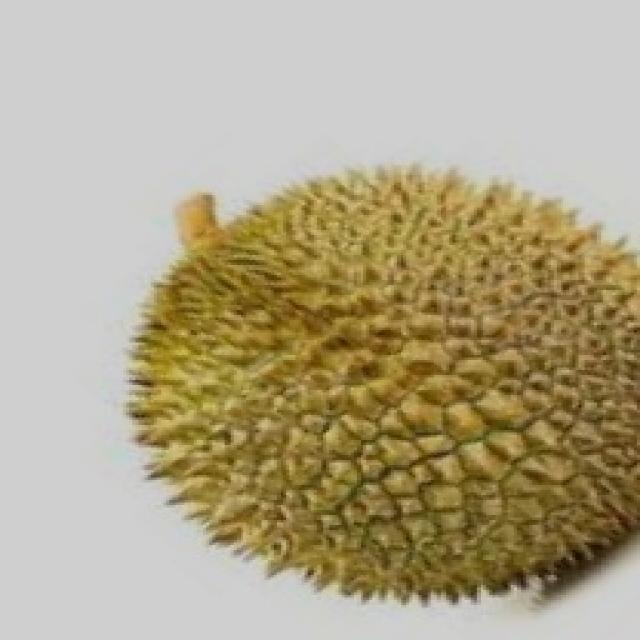fruit: (80, 250, 468, 638), (298, 275, 640, 637)
